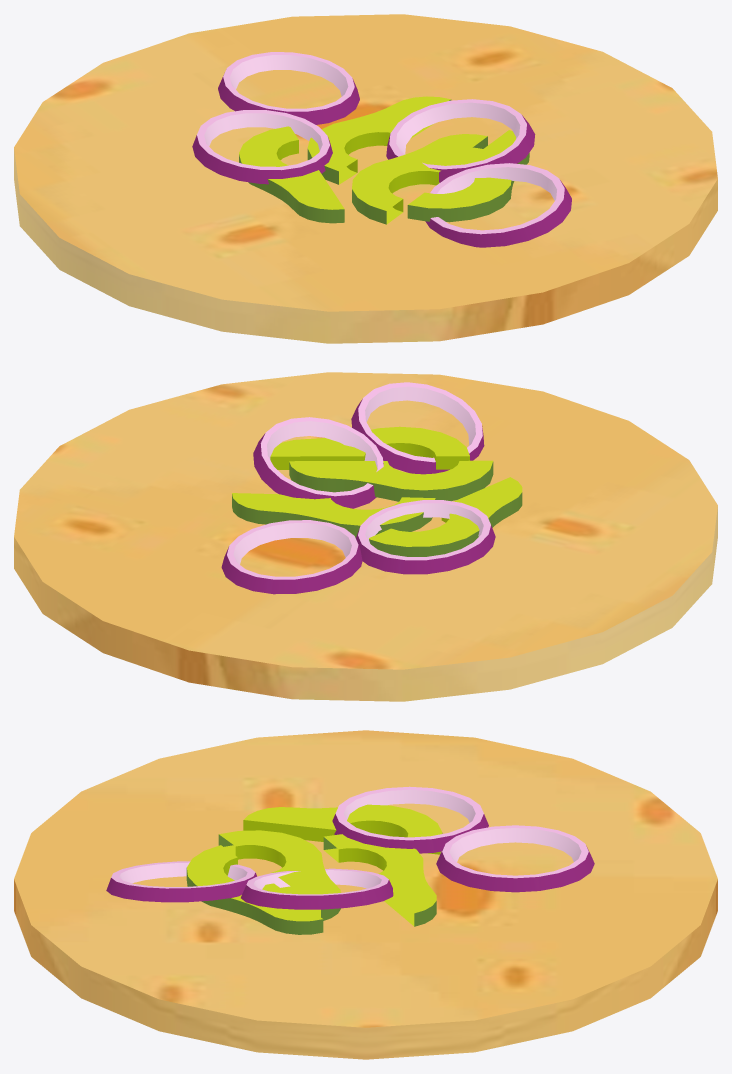
Rendered from taco_Cebolla_Aguacate.glb.
3 views of the same model, one above another, from view 1: azimuth 30°, elevation 25°; view 2: azimuth 150°, elevation 25°; view 3: azimuth 270°, elevation 25° (orthographic).
Parts seen in each view (by area): view 1: tortilla.002, Avocado_Slice_Avocado_0, Onion_Slice_Onion_0, Onion_Slice_Onion_0.001; view 2: tortilla.002, Avocado_Slice_Avocado_0, Onion_Slice_Onion_0, Onion_Slice_Onion_0.001; view 3: tortilla.002, Avocado_Slice_Avocado_0, Onion_Slice_Onion_0, Onion_Slice_Onion_0.001.
Boxes of the visible parts, x1,y1,x2,y2 form: tortilla.002: [14, 14, 717, 343]; Avocado_Slice_Avocado_0: [239, 96, 529, 224]; Onion_Slice_Onion_0: [192, 52, 359, 184]; Onion_Slice_Onion_0.001: [386, 99, 571, 247]; tortilla.002: [14, 372, 717, 701]; Avocado_Slice_Avocado_0: [232, 426, 522, 556]; Onion_Slice_Onion_0: [221, 500, 495, 594]; Onion_Slice_Onion_0.001: [253, 382, 484, 508]; tortilla.002: [14, 730, 717, 1059]; Avocado_Slice_Avocado_0: [186, 804, 442, 934]; Onion_Slice_Onion_0: [332, 786, 594, 892]; Onion_Slice_Onion_0.001: [106, 861, 393, 909].
Size of the model in its own units: 0.2118 by 0.0248 by 0.2118.
3 materials, 3 textured.
